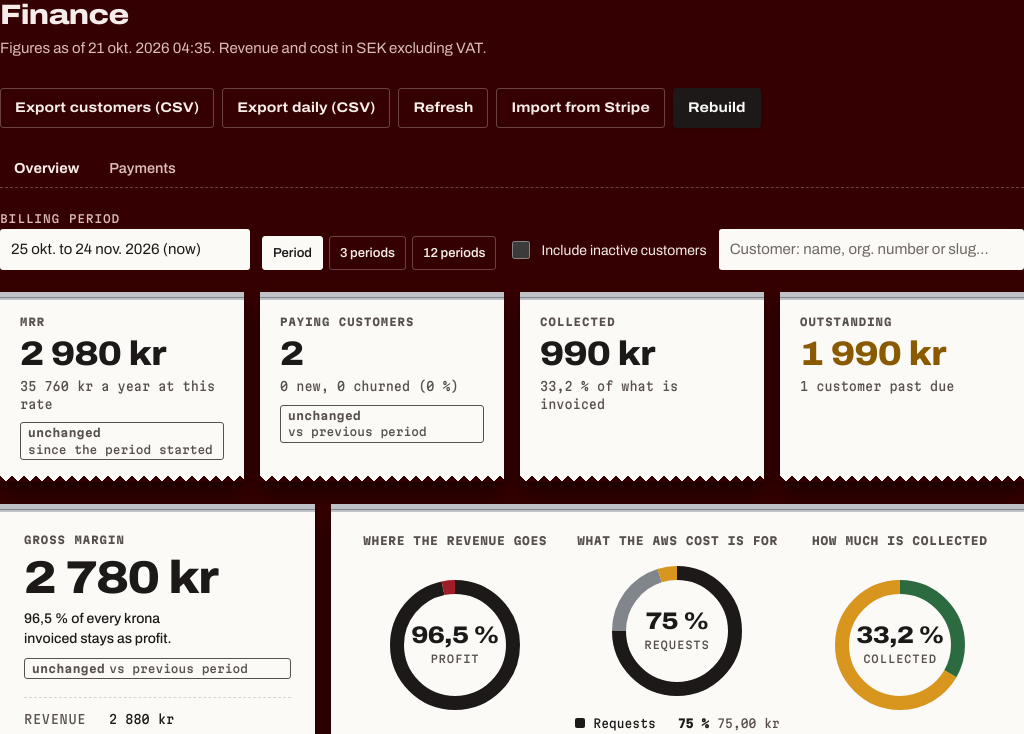
Test case: FinancePage › previews and runs the invoicing from the Payments view
Click the button "Payments" at (142, 169), box [95,150,190,188]
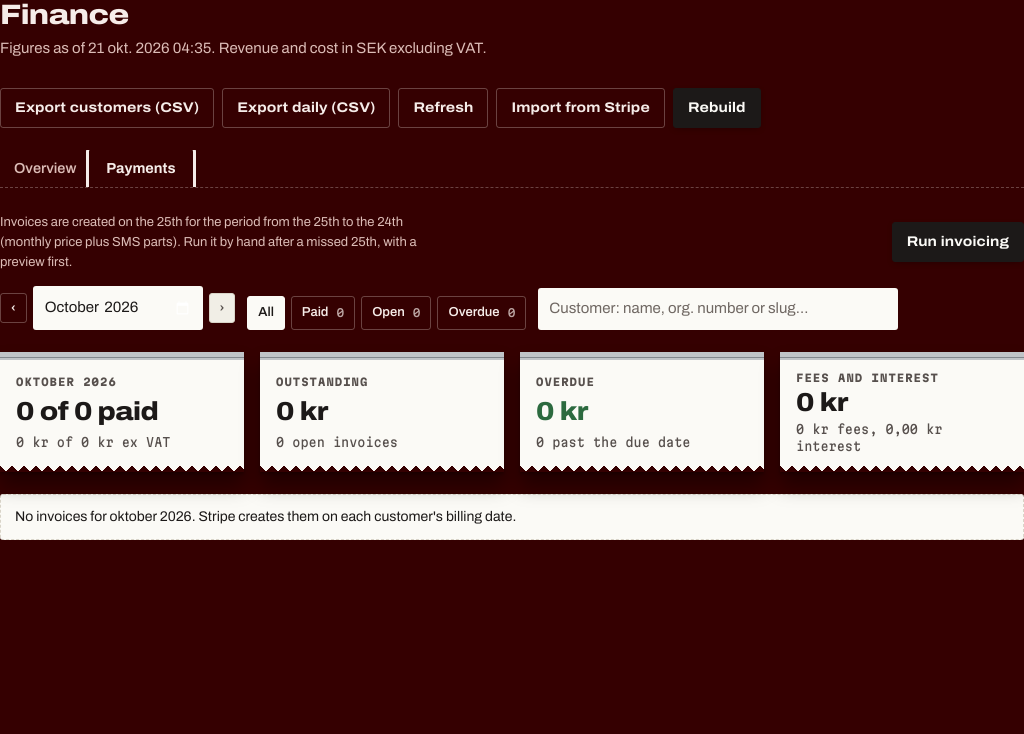
Click the button "Run invoicing" at (958, 242), box [892,222,1023,262]
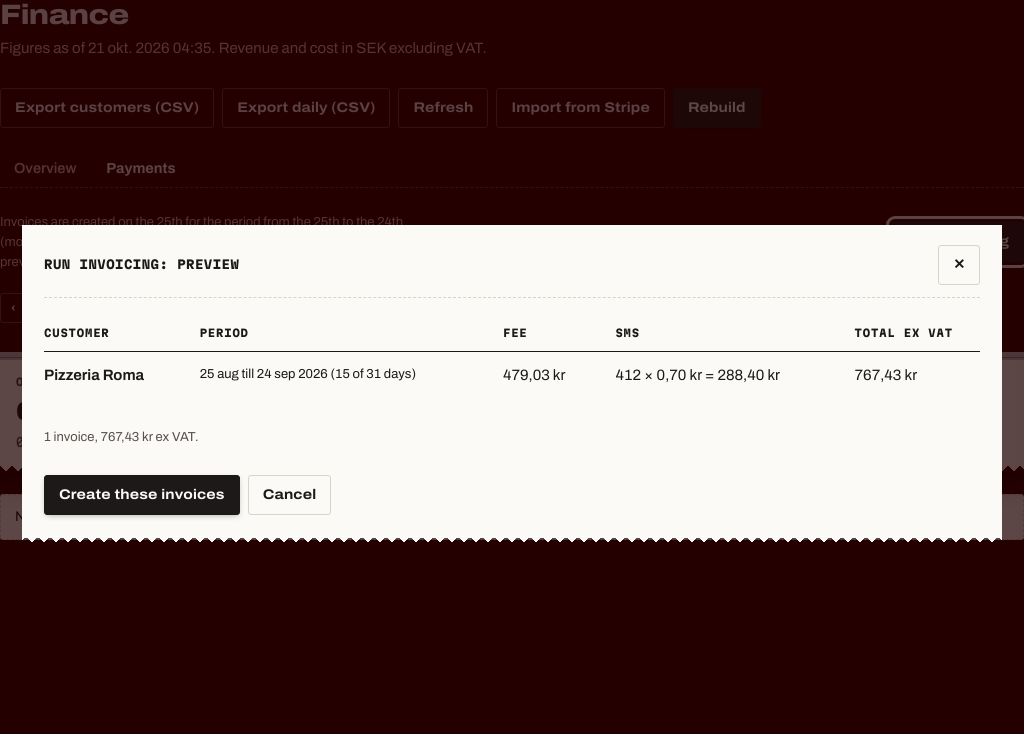
Check: the text "25 aug till 24 sep 2026 (15 of 31 days)" is shown, box [186,351,489,399]
Click the button "Create these invoices" at (142, 495), box [44,475,240,515]
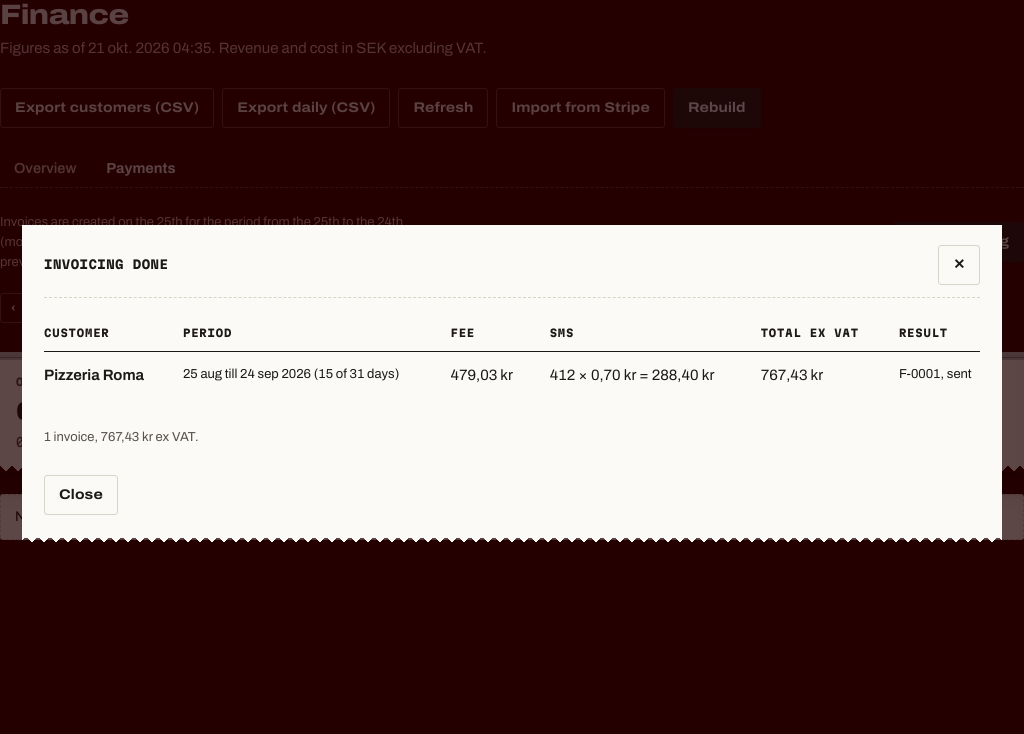
Check: the text "F-0001, sent" is shown, box [885,351,980,399]
